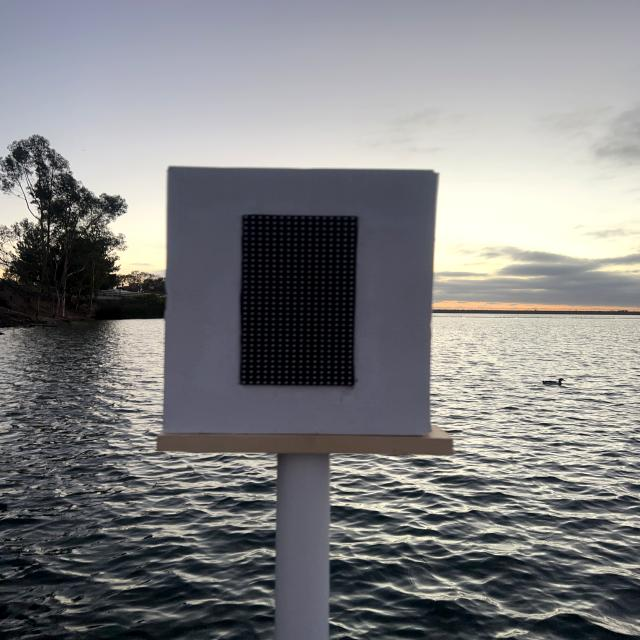led: (187, 184, 397, 429)
